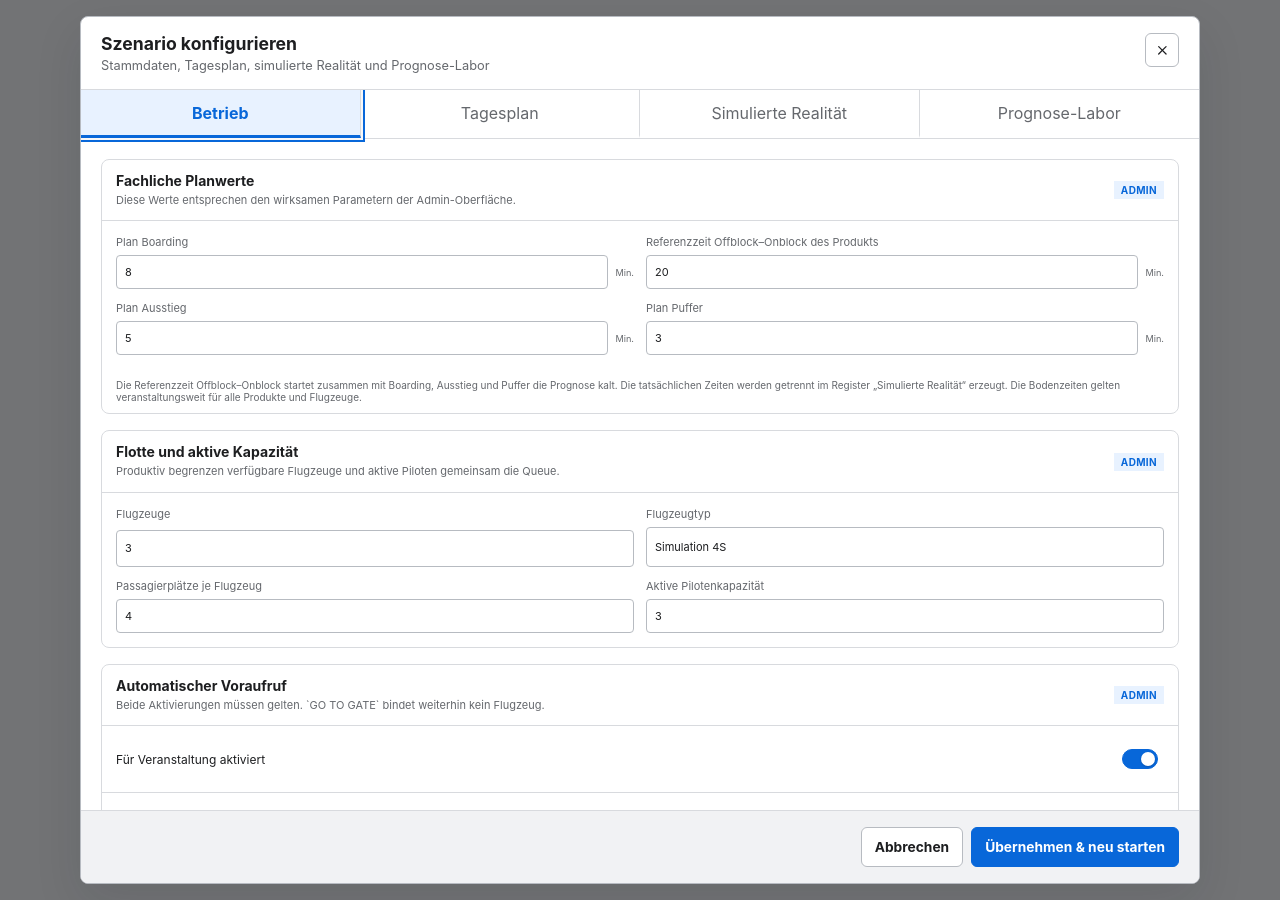
Test: product demand editor › edits the selected product without changing another product
Click the button "Simulierte Realität" at (780, 114), box [640,90,920,138]
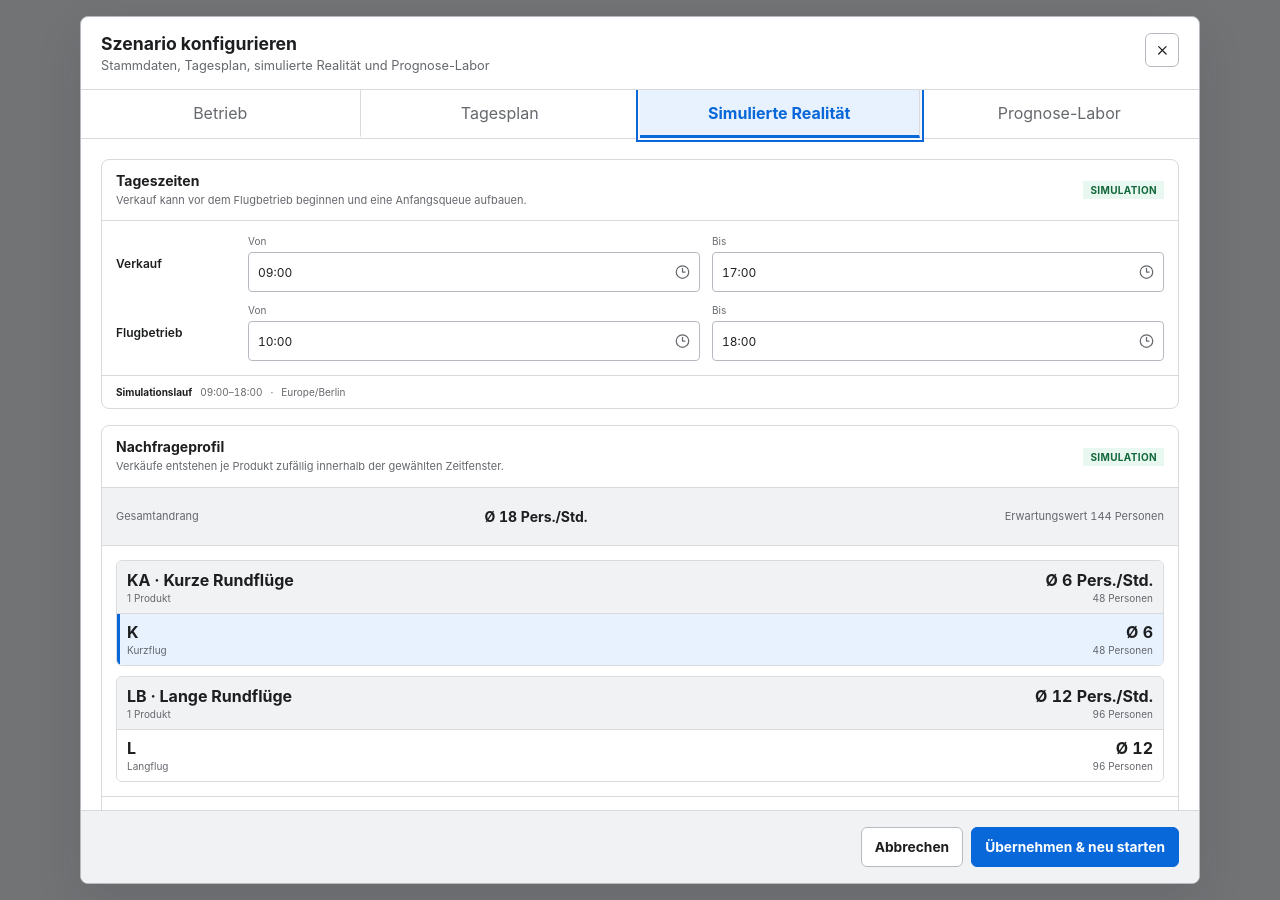
expect the text "Ø 18 Pers./Std." is shown: met, box [484,508,588,525]
expect the text "KA · Kurze Rundflüge" is shown: met, box [127,570,294,590]
expect the text "LB · Lange Rundflüge" is shown: met, box [127,686,292,706]
Click the button with aria-label "Produkt L Langflug auswählen" at (148, 766), box [117,729,1163,781]
(page scrolled)
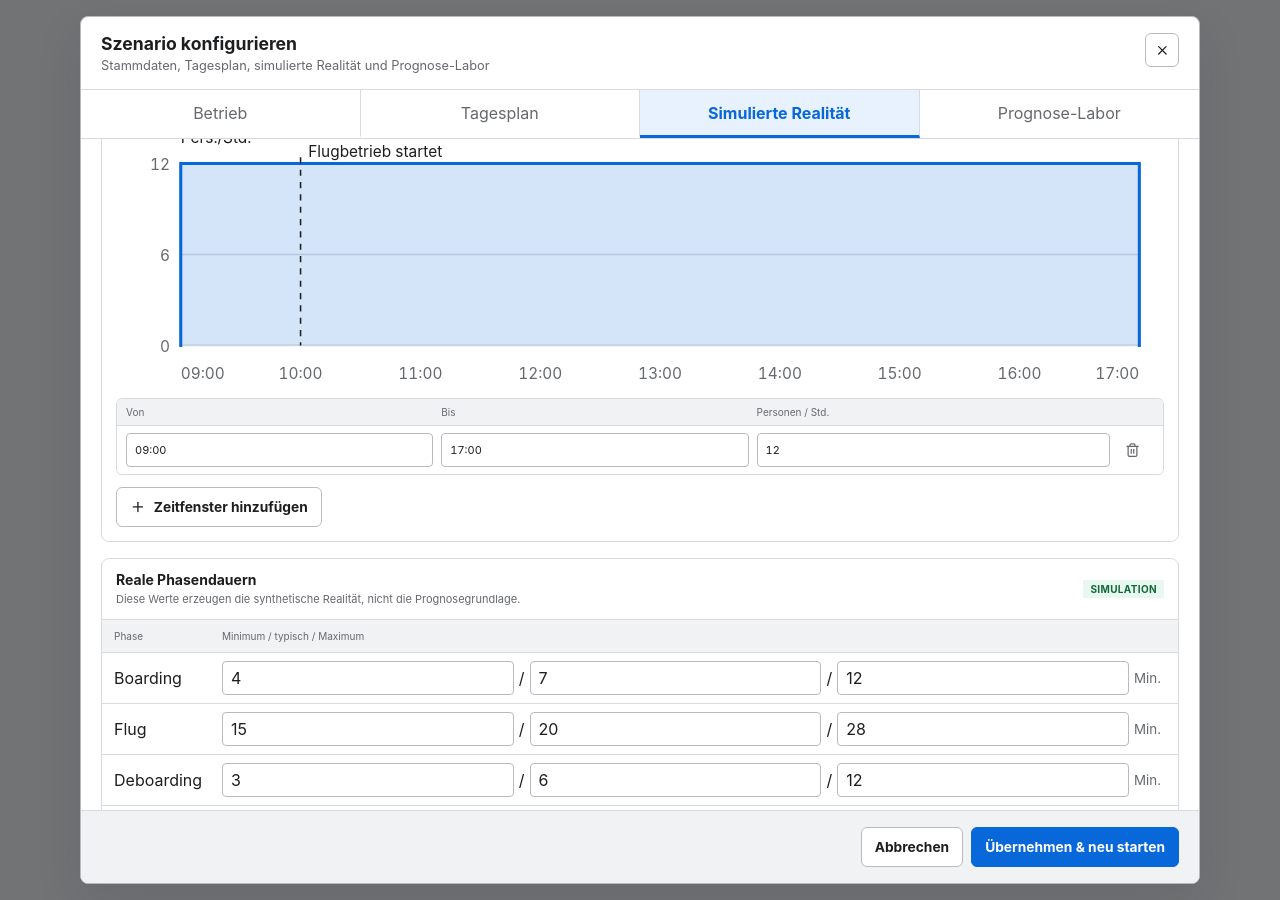
expect the number field named "Nachfragefenster 1, Personen je Stunde" holds "12": met
Replace the text in the number field named "Nachfragefenster 1, Personen je Stunde" with "30" at (933, 450), box [757,433,1110,467]
(page scrolled)
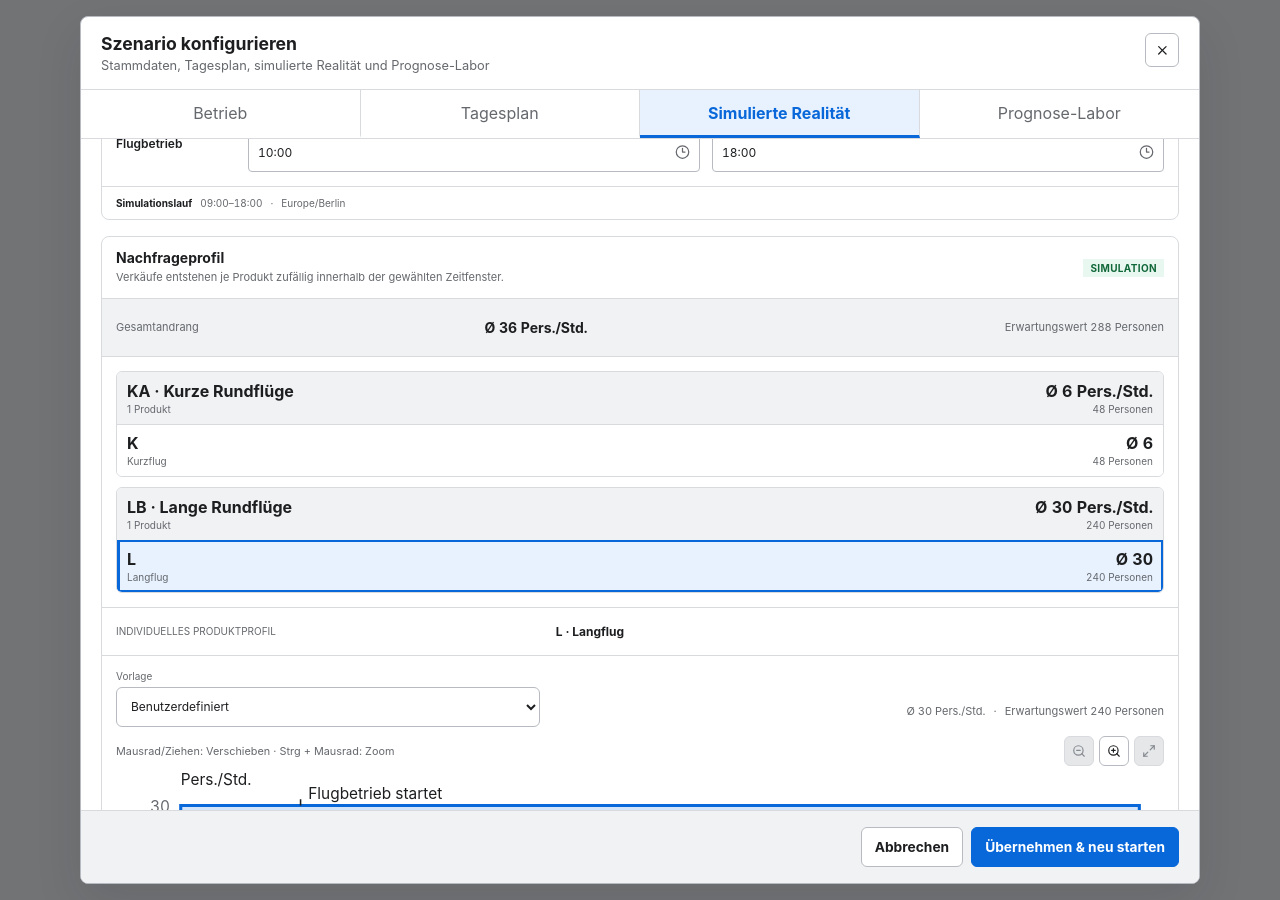
expect the text "Ø 36 Pers./Std." is shown: met, box [484,319,588,336]
Click the button with aria-label "Produkt K Kurzflug auswählen" at (147, 461), box [117,424,1163,476]
(page scrolled)
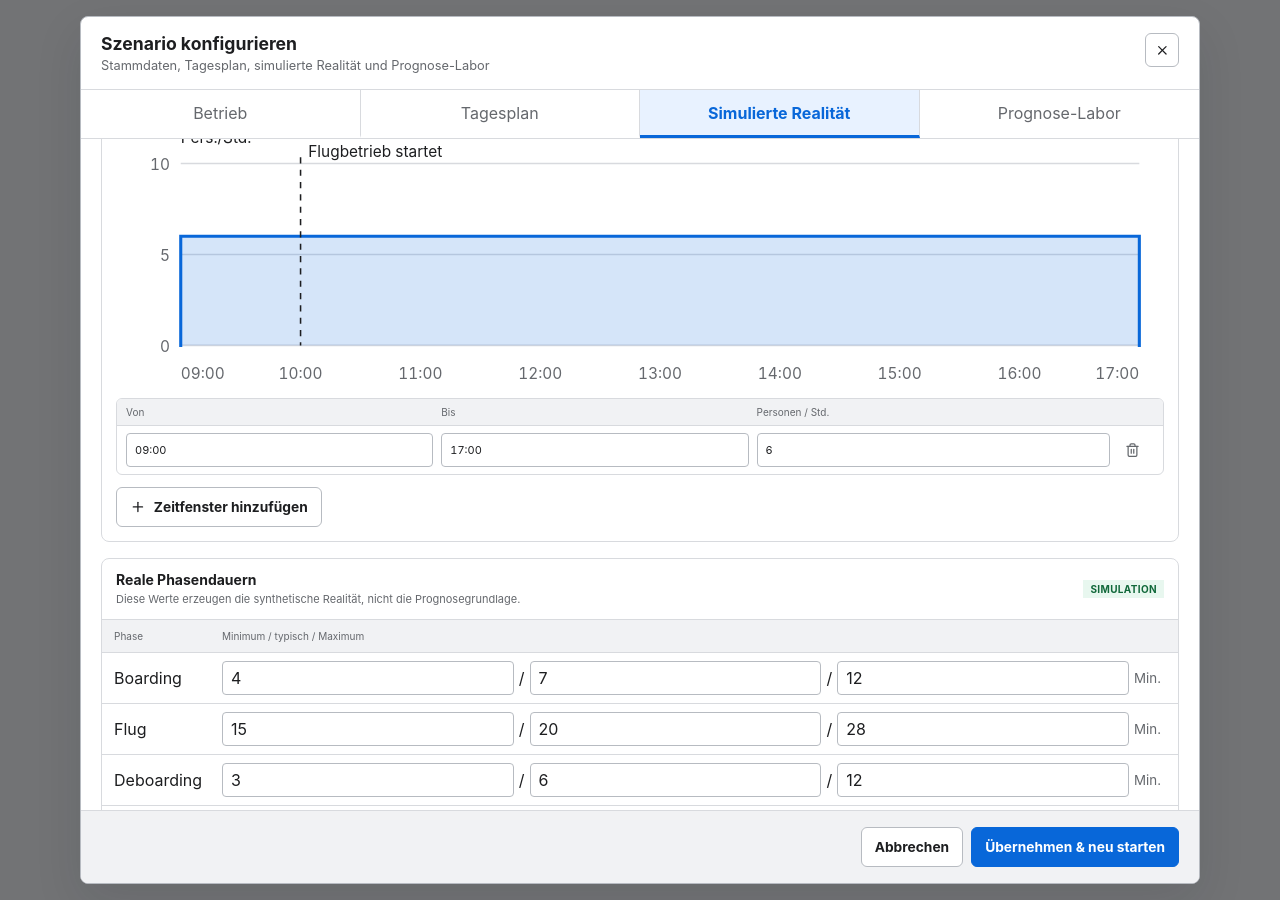
expect the number field named "Nachfragefenster 1, Personen je Stunde" holds "6": met, box [757,433,1110,467]
